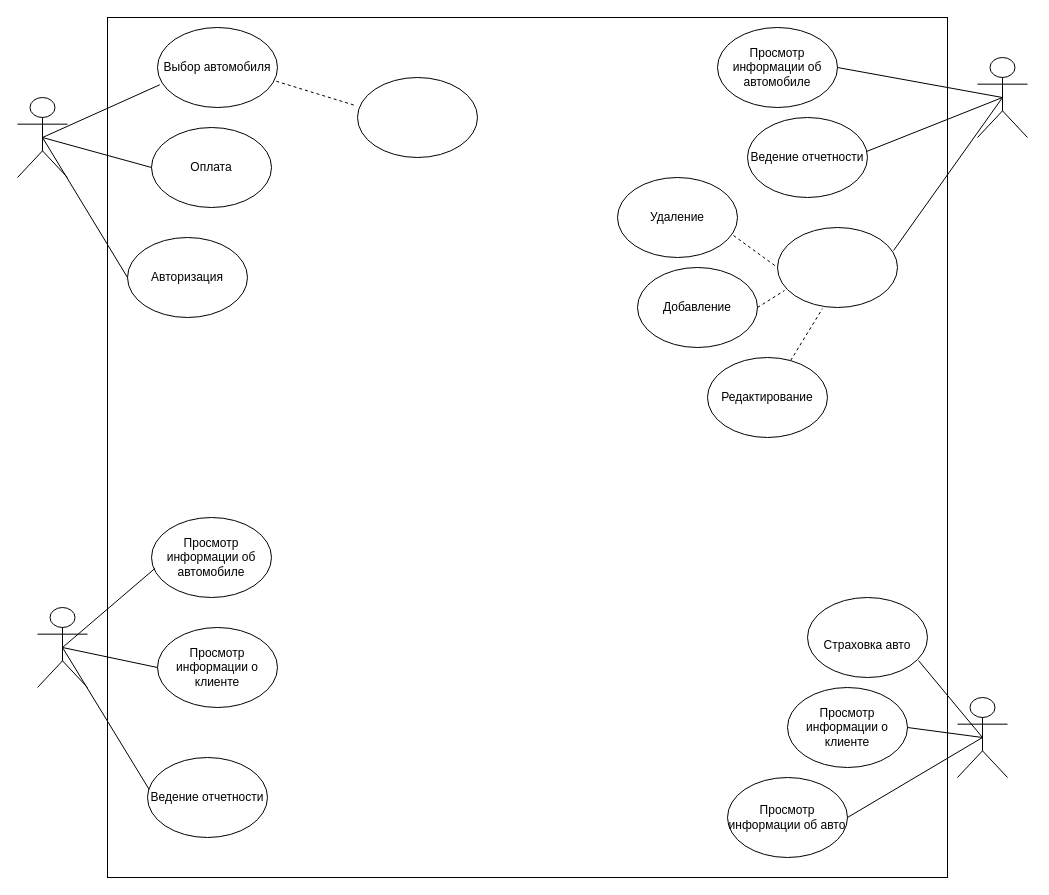
This 1049x895 diagram has some shape labels left out. The shapes that lost their labels are listed below. From the top down, each one's box as (x1, y1, x2, y2) in pixels, then its label:
(356, 76, 478, 158): Марка, модель, кузов, цвет, комплектация
(976, 56, 1028, 138): Менеджер
(16, 96, 68, 178): Клиент
(776, 226, 898, 308): Изменение информации об автомобиле
(36, 606, 88, 688): Администратор
(956, 696, 1008, 778): Страховщик
